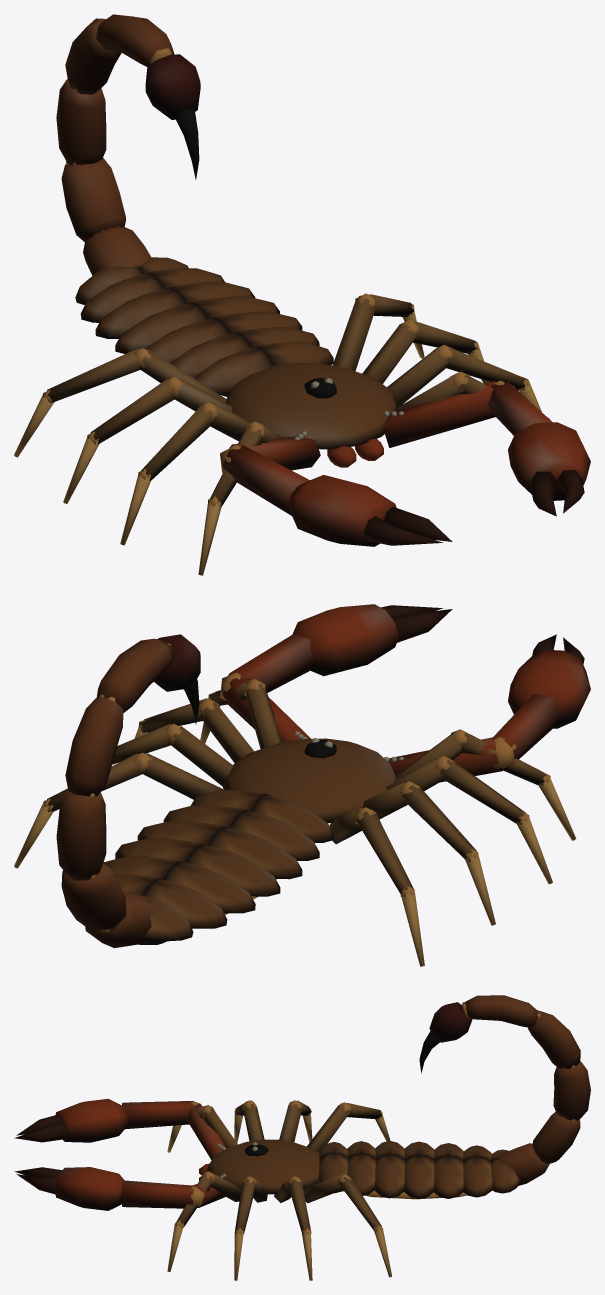
Rendered from Gigantoscorpio.fbx.
3 renders of one model, top to bottom at view 1: azimuth 30°, elevation 25°; view 2: azimuth 150°, elevation 25°; view 3: azimuth 270°, elevation 25°, orthographic. The views are drawn at different scales.
Visible parts, largest first — view 1: Pulmonoscorpius; view 2: Pulmonoscorpius; view 3: Pulmonoscorpius.
Part boxes in pixels (x1,y1,x2,y2): Pulmonoscorpius: (14,14,590,575); Pulmonoscorpius: (14,604,590,966); Pulmonoscorpius: (14,995,590,1280).
Size of the model in its own units: 0.787 by 0.5704 by 1.38.
